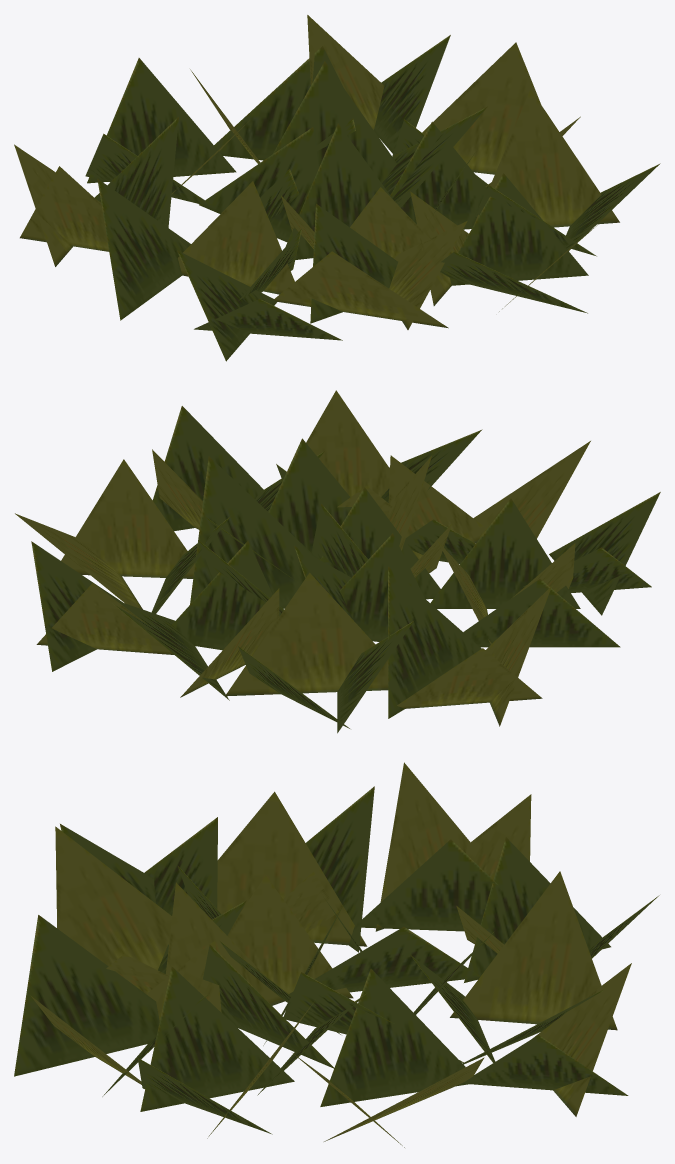
The model's file is dec_Ground_Grass_02_21812.glb.
3 views of the same model, one above another, from view 1: azimuth 30°, elevation 25°; view 2: azimuth 150°, elevation 25°; view 3: azimuth 270°, elevation 25° (orthographic). The views are drawn at different scales.
Visible parts, largest first — view 1: Ground_Grass_02_mesh; view 2: Ground_Grass_02_mesh; view 3: Ground_Grass_02_mesh.
Boxes of the visible parts, x1,y1,x2,y2 form: Ground_Grass_02_mesh: (14,15,660,361); Ground_Grass_02_mesh: (15,390,660,733); Ground_Grass_02_mesh: (14,762,659,1147).
Bounding box in the file's own units: 1.48 × 0.3047 × 1.49.
Materials: 1 (1 with a texture image).
